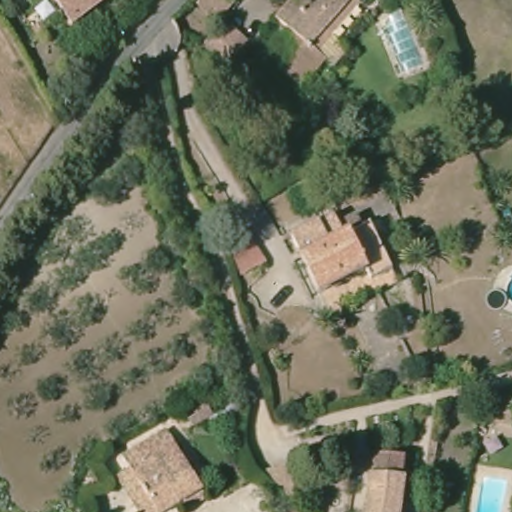pool: (377, 7, 432, 80), (473, 468, 512, 511)
